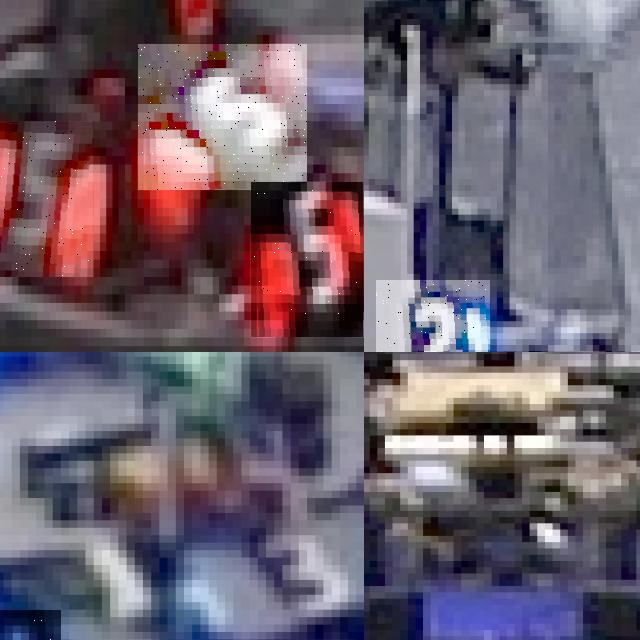B2: (375, 279, 490, 352)
R5: (138, 44, 307, 190), (251, 182, 363, 337), (0, 121, 93, 276)
